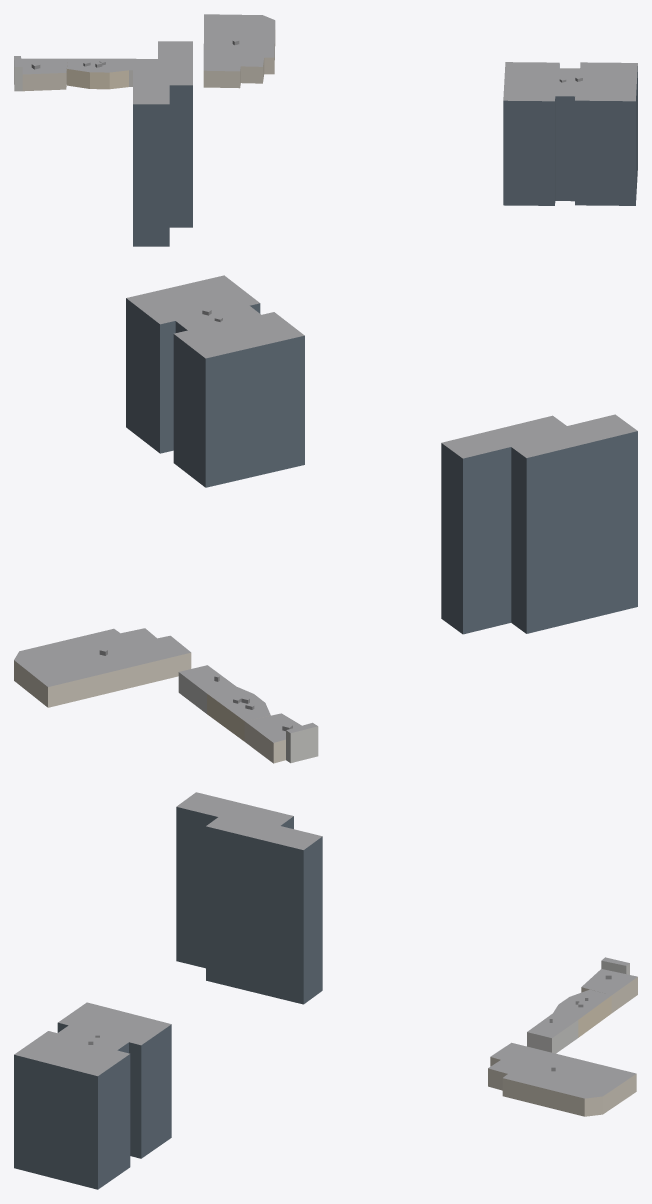
File: building_-4_-3.glb
The picture shows the model from 3 angles, top to bottom: view 1: azimuth 30°, elevation 25°; view 2: azimuth 150°, elevation 25°; view 3: azimuth 270°, elevation 25°; orthographic projection. The views are drawn at different scales.
Visible parts, largest first — view 1: glass_dark, roof, concrete_warm, sandstone; view 2: glass_dark, roof, concrete_warm, concrete_light, sandstone; view 3: glass_dark, roof, concrete_warm, concrete_light, sandstone.
Part boxes in pixels (x1=…): glass_dark: x1=133, y1=64, x2=637, y2=246; roof: x1=14, y1=14, x2=637, y2=104; concrete_warm: x1=22, y1=30, x2=275, y2=91; sandstone: x1=67, y1=69, x2=128, y2=89; glass_dark: x1=126, y1=298, x2=637, y2=634; roof: x1=14, y1=275, x2=637, y2=742; concrete_warm: x1=14, y1=652, x2=285, y2=763; concrete_light: x1=178, y1=672, x2=318, y2=763; sandstone: x1=207, y1=694, x2=269, y2=741; glass_dark: x1=14, y1=807, x2=322, y2=1189; roof: x1=14, y1=792, x2=637, y2=1098; concrete_warm: x1=488, y1=977, x2=637, y2=1116; concrete_light: x1=527, y1=960, x2=629, y2=1053; sandstone: x1=578, y1=995, x2=611, y2=1037.
Bounding box in the file's own units: 230 × 68 × 249.
